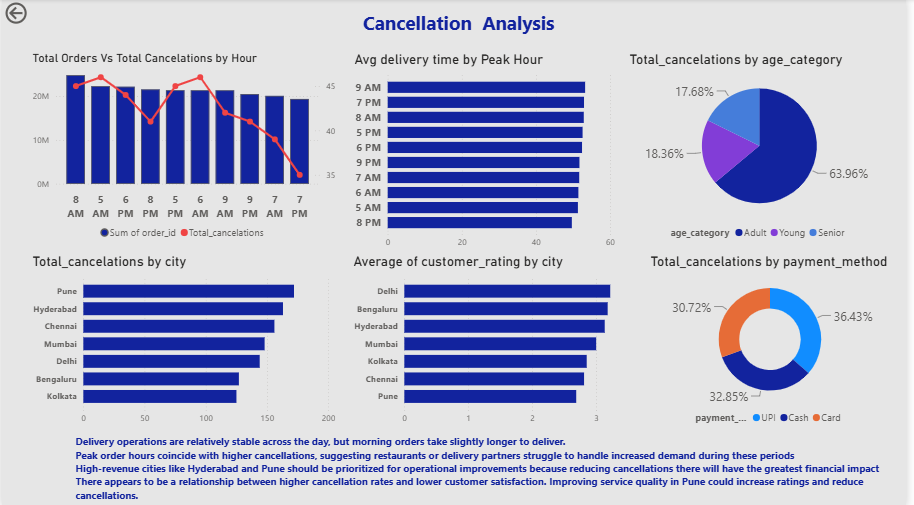

What the dashboard file says about the page in this screenshot:
{"tool":"powerbi","page":{"name":"Page 2","canvas":[1280,720],"ordinal":1},"visuals":[{"type":"barChart","fields":{"Category":["food_db processed_food_delivery_data.city"],"Y":["Avg(food_db processed_food_delivery_data.customer_rating)"]},"box":[493.9,360,403.2,252],"z":0},{"type":"lineStackedColumnComboChart","title":"Total Orders Vs Total Cancelations by  Hour ","fields":{"Category":["food_db processed_food_delivery_data.Order Hour Label"],"Y":["Sum(food_db processed_food_delivery_data.order_id)"],"Y2":["food_db processed_food_delivery_data.Total_cancelations"]},"box":[38.9,73.4,439.2,276.5],"z":1000},{"type":"actionButton","box":[0,0,100,40],"z":2000},{"type":"barChart","fields":{"Category":["food_db processed_food_delivery_data.city"],"Y":["food_db processed_food_delivery_data.Total_cancelations"]},"box":[38.9,360,439.2,252],"z":3000},{"type":"barChart","title":"Avg delivery time by Peak  Hour ","fields":{"Y":["Avg(food_db processed_food_delivery_data.delivery_time_min)"],"Category":["food_db processed_food_delivery_data.Order Hour Label"]},"box":[494.2,73.5,379.4,289],"z":4000},{"type":"textbox","box":[409,10.1,475.2,50.4],"z":5000},{"type":"textbox","box":[99.4,612,1163.5,108],"z":6000},{"type":"donutChart","fields":{"Y":["food_db processed_food_delivery_data.Total_cancelations"],"Category":["food_db processed_food_delivery_data.payment_method"]},"box":[914.4,360,348.5,252],"z":7000},{"type":"pieChart","fields":{"Category":["food_db processed_food_delivery_data.age_category"],"Y":["food_db processed_food_delivery_data.Total_cancelations"]},"box":[883.9,73.5,378.1,276.1],"z":8000}]}

Visuals, with their boxes in screenshot pixels (x1, y1, x2, y2), scaled from the page's 1280x720 canvas onto the 914x505 screenshot:
barChart - food_db processed_food_delivery_data.city x Avg(food_db processed_food_delivery_data.customer_rating): box(353, 252, 641, 429)
"Total Orders Vs Total Cancelations by  Hour " lineStackedColumnComboChart: box(28, 51, 341, 245)
actionButton: box(0, 0, 71, 28)
barChart - food_db processed_food_delivery_data.city x food_db processed_food_delivery_data.Total_cancelations: box(28, 252, 341, 429)
"Avg delivery time by Peak  Hour " barChart: box(353, 52, 624, 254)
textbox: box(292, 7, 631, 42)
textbox: box(71, 429, 902, 504)
donutChart - food_db processed_food_delivery_data.Total_cancelations x food_db processed_food_delivery_data.payment_method: box(653, 252, 902, 429)
pieChart - food_db processed_food_delivery_data.age_category x food_db processed_food_delivery_data.Total_cancelations: box(631, 52, 901, 245)
